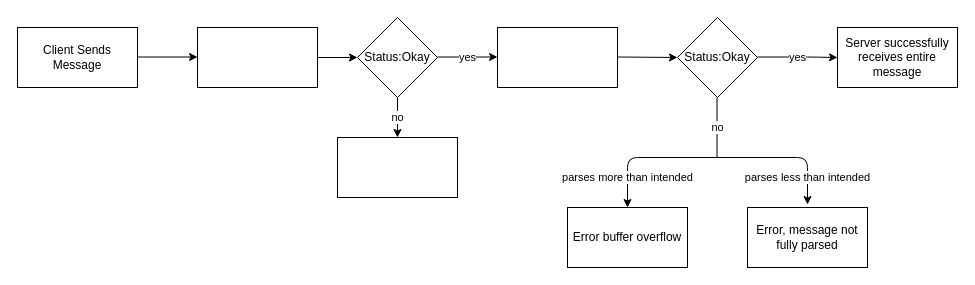
The diagram is 975 pixels wide and 285 high, and some of its shapes have lost their labels. Here are the shapes that lost their labels. From the top down, the centre of each, then its label:
At [257,57]: "Server Recieves first 10 Bytes which indicates size".
At [557,57]: "Server Parses rest of message through a loop based on the first 10 bytes".
At [397,167]: "Error, minimum file size of 10 bytes not met.".
